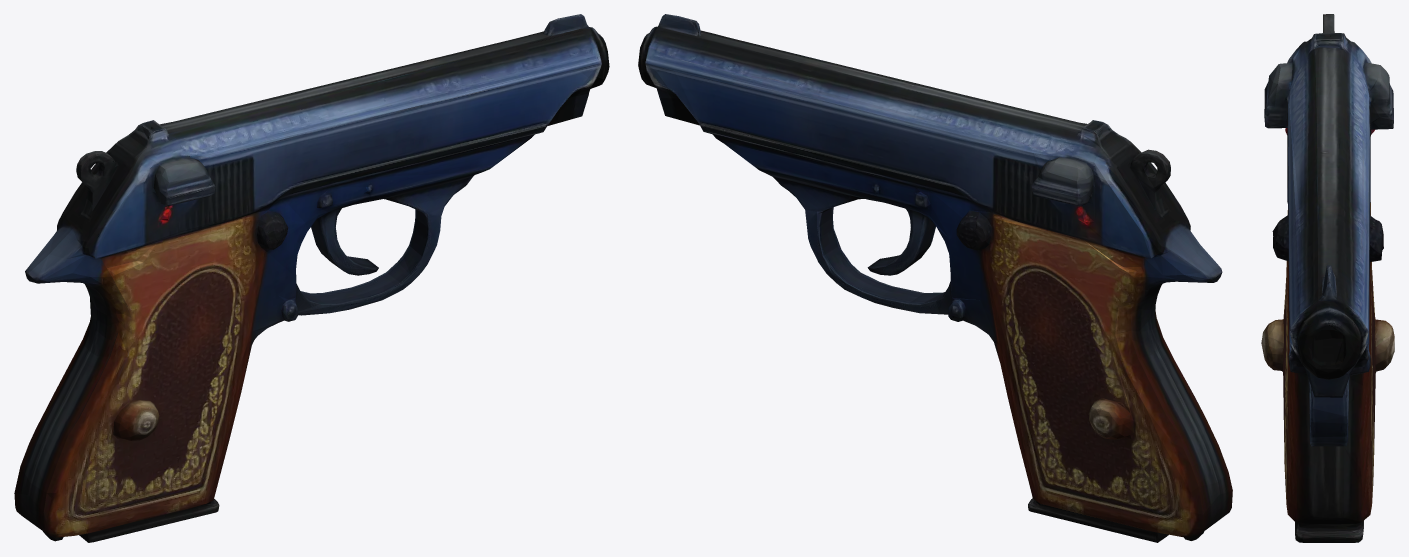
The model's file is ppk.glb.
3 views of the same model, side by side, from view 1: azimuth 30°, elevation 25°; view 2: azimuth 150°, elevation 25°; view 3: azimuth 270°, elevation 25° (orthographic). The views are drawn at different scales.
Parts seen in each view (by area): view 1: geometry_0; view 2: geometry_0; view 3: geometry_0.
Boxes of the visible parts, x1,y1,x2,y2 form: geometry_0: [14, 14, 609, 542]; geometry_0: [638, 14, 1232, 542]; geometry_0: [1261, 14, 1394, 542].
Size of the model in its own units: 0.9989 by 0.6652 by 0.1652.
1 material, 1 textured.
